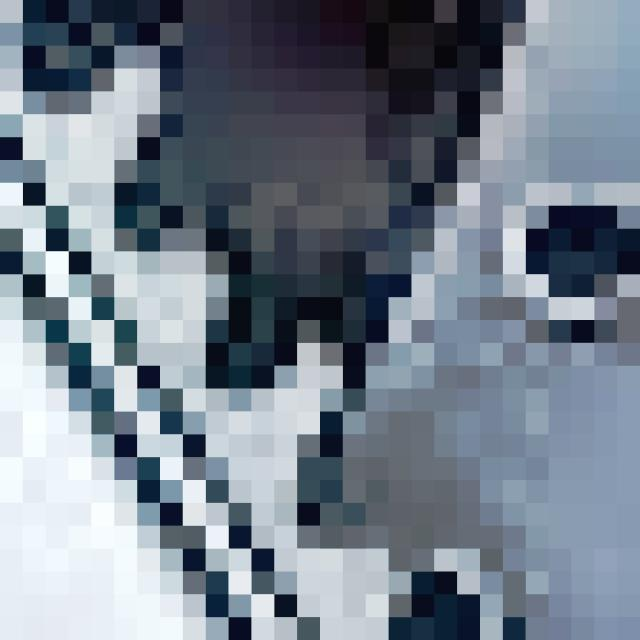arms: (358, 0, 640, 640)
